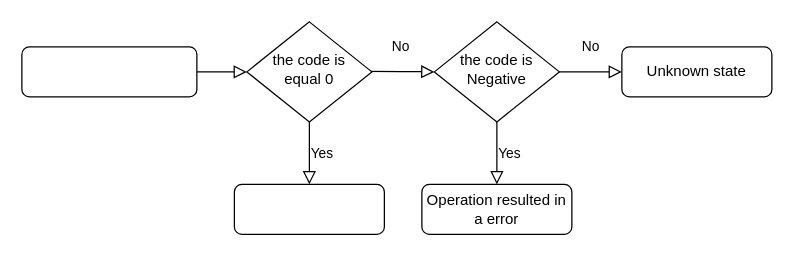
This 794x256 diagram has some shape labels left out. Here are the shapes that lost their labels. From the top down, the box of each, then its label:
(21, 46, 197, 97): You recieve a response from the server
(233, 183, 384, 234): Operation is successful
